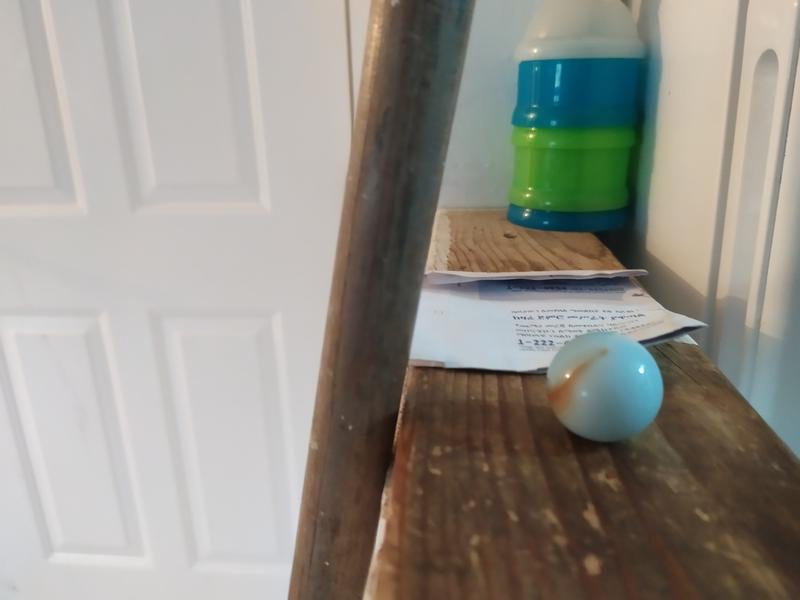Warning: (542, 327, 668, 446)
